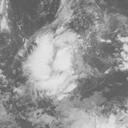cyclone: (21, 25, 90, 103)
